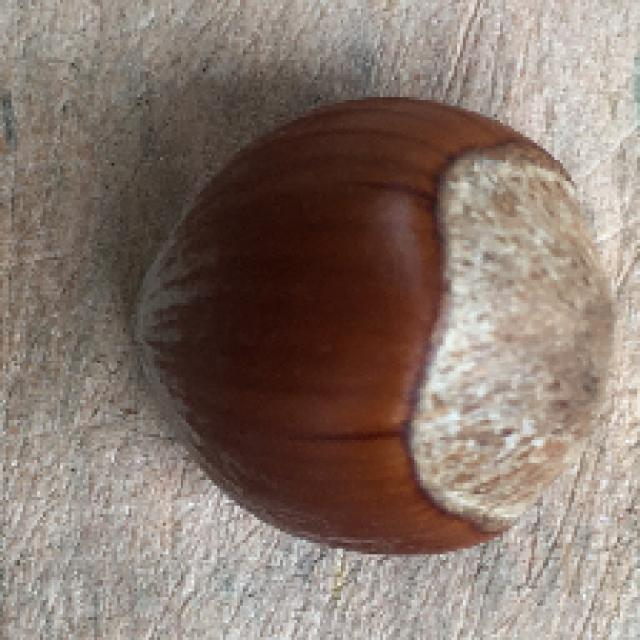qualityHazelnut: (125, 91, 623, 557)
